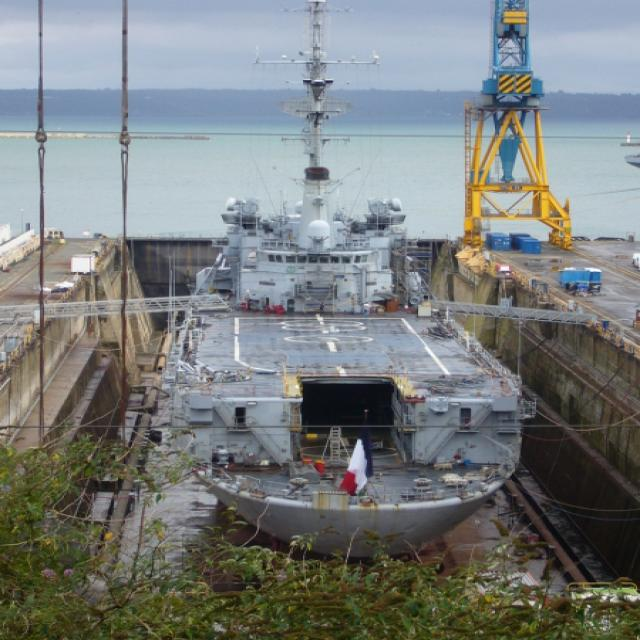Portanaves: (184, 1, 640, 428)
